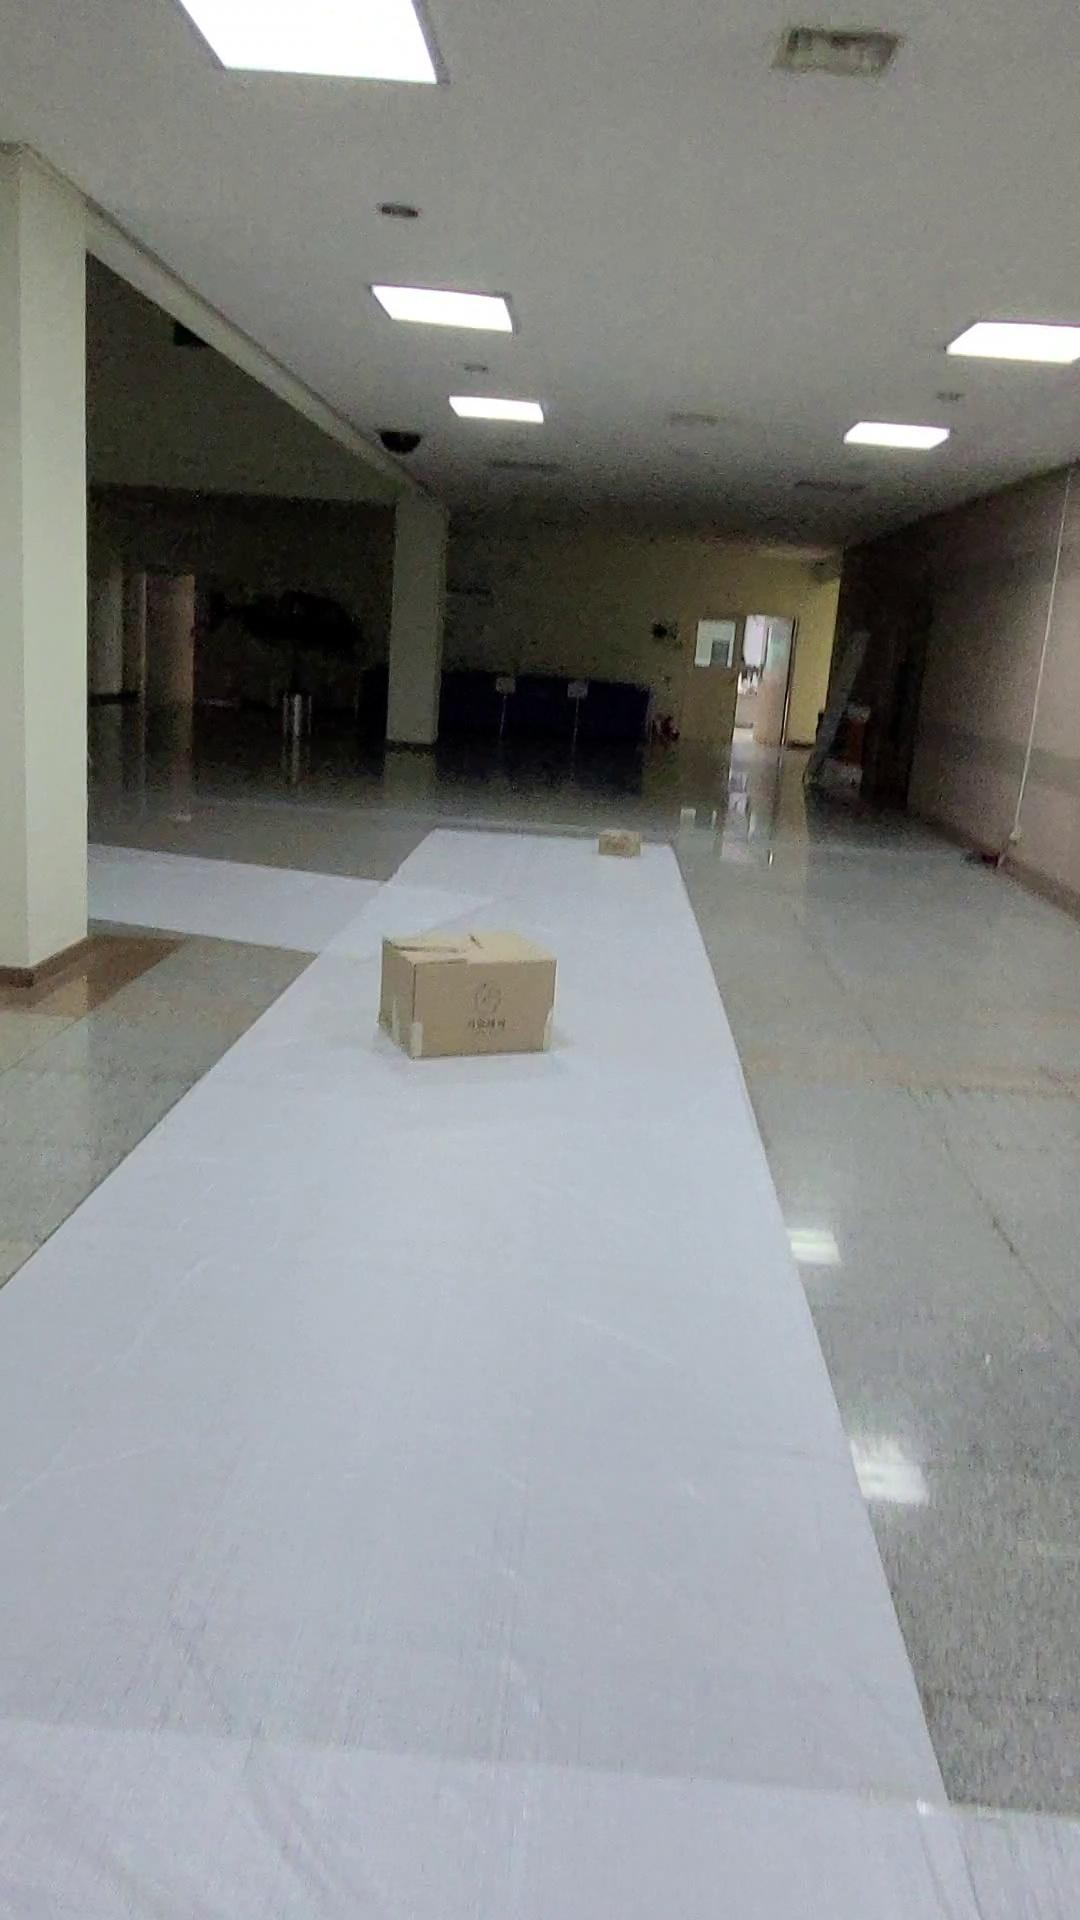Box: (353, 915, 595, 1085), (583, 808, 657, 887)
